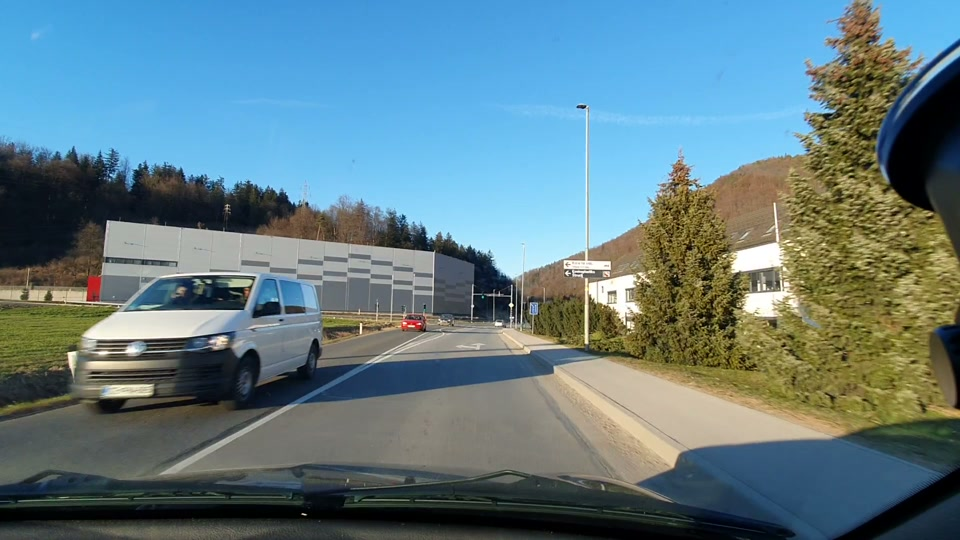vehicle_s: (65, 260, 331, 409), (400, 310, 429, 333)
